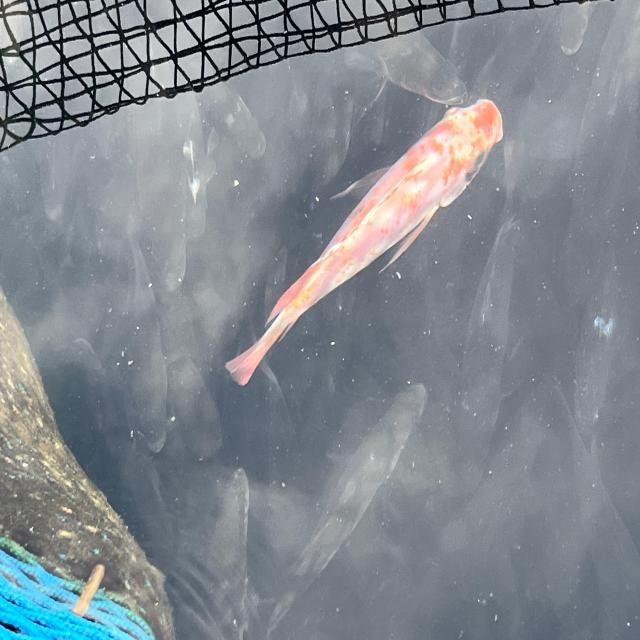ikan: (223, 96, 504, 388), (264, 380, 428, 636)
